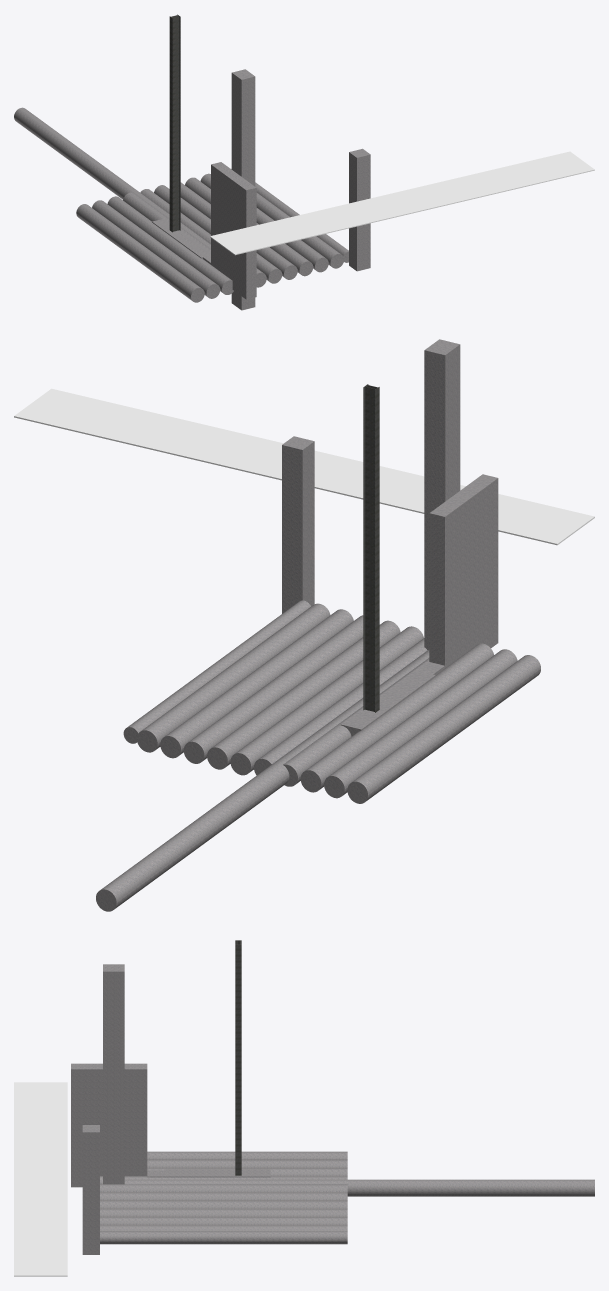
The picture shows the model from 3 angles, top to bottom: view 1: azimuth 30°, elevation 25°; view 2: azimuth 150°, elevation 25°; view 3: azimuth 270°, elevation 25°; orthographic projection. The views are drawn at different scales.
Parts seen in each view (by area): view 1: 0_3_1_2_2; view 2: 0_3_1_2_2; view 3: 0_3_1_2_2.
Boxes of the visible parts, x1,y1,x2,y2 form: 0_3_1_2_2: (14, 14, 594, 310); 0_3_1_2_2: (14, 339, 594, 911); 0_3_1_2_2: (14, 940, 594, 1276).
Size of the model in its own units: 21.15 by 13.83 by 27.05.
Materials: 20 (19 with a texture image).
